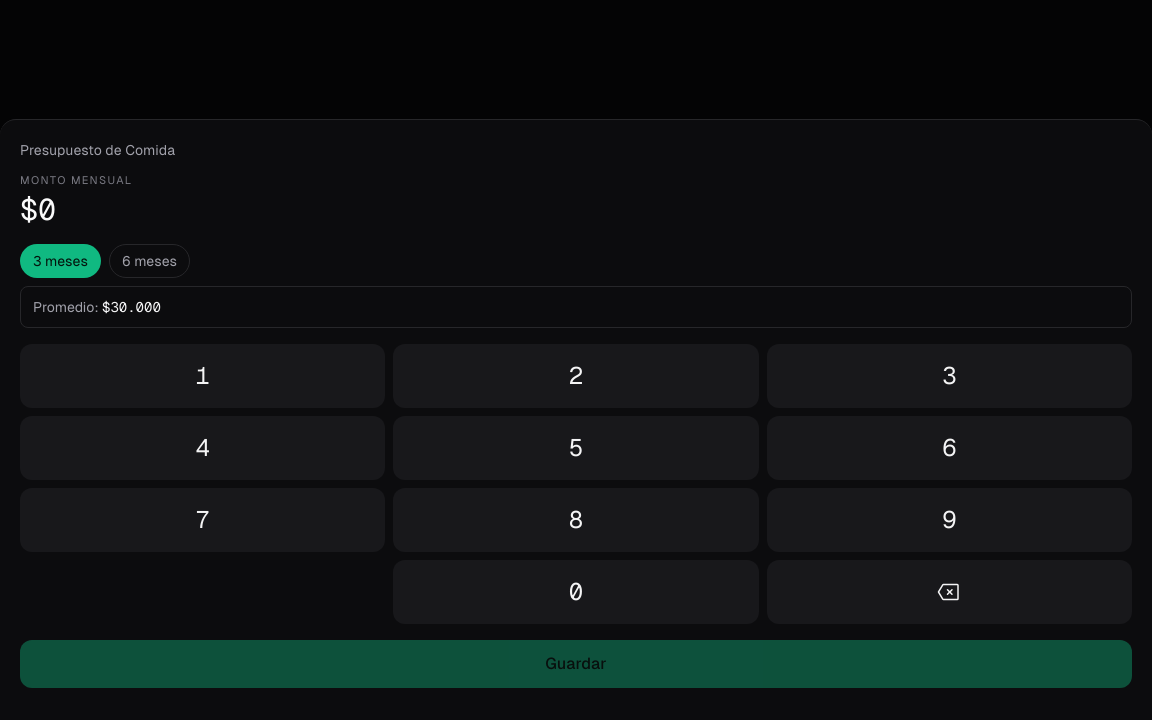
Test: BudgetSheet › should_FillAmount_When_SuggestionTapped
The image size is (1152, 720).
Check: the text "$0" is shown, box [20,190,56,229]
Click the button "Promedio: $30.000" at [68, 307], box [20,286,1132,328]
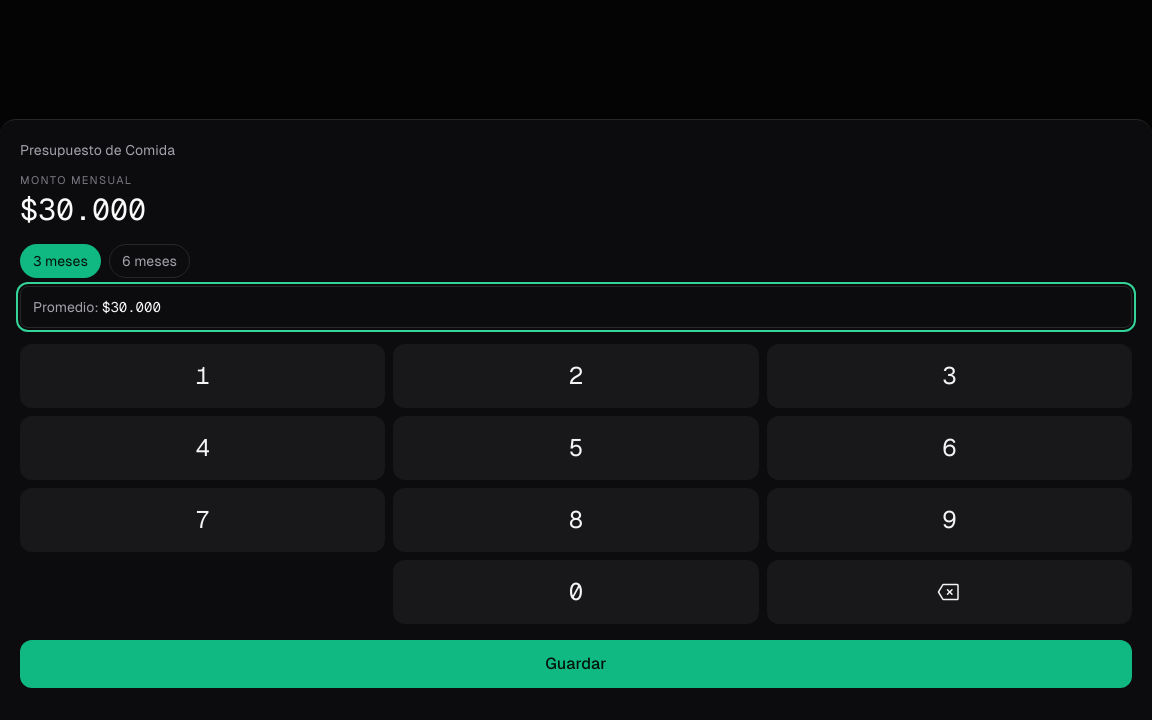
Check: the text "$30.000" is shown 2 times, box [20,190,146,229]; [102,298,161,316]
Check: the text "$0" is gone
